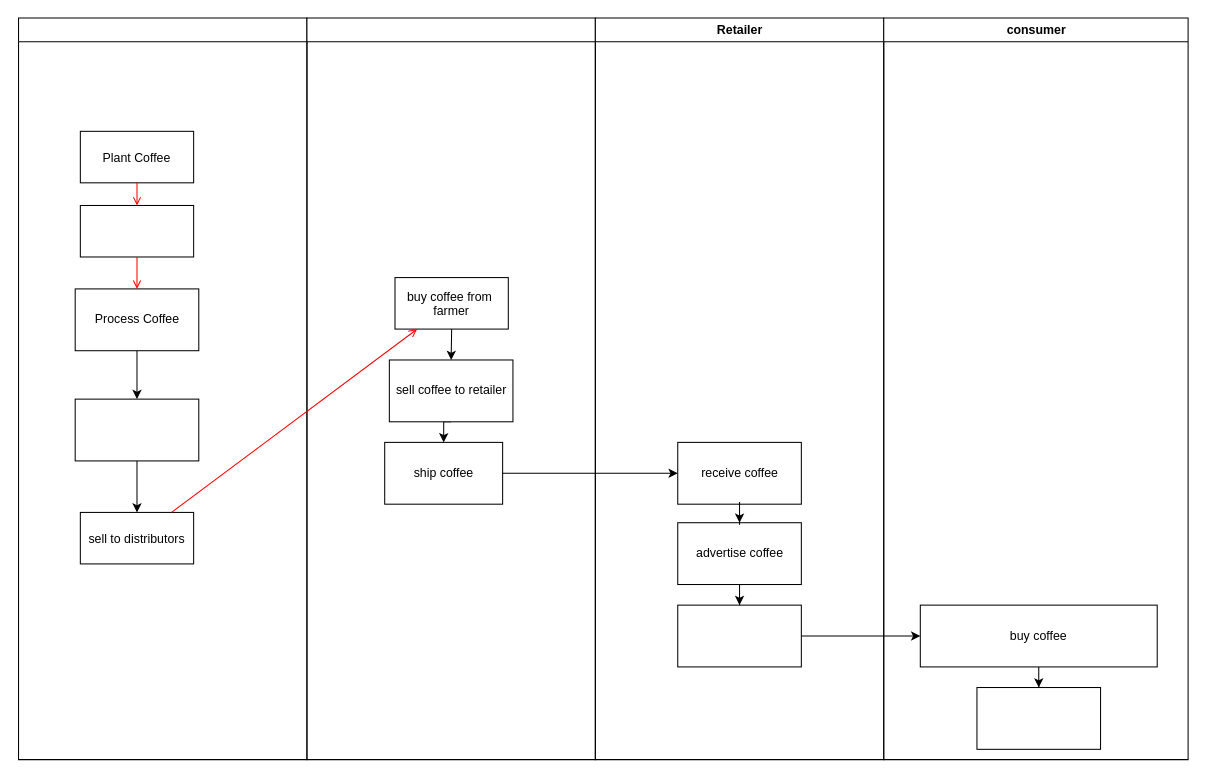
The diagram is 1206 pixels wide and 778 high, and some of its shapes have lost their labels. The shapes that lost their labels are listed below. From the top down, each one's box as (x1, y1, x2, y2) in pixels, then its label:
(79, 204, 194, 257): Harvest coffee
(18, 17, 307, 760): Farmer
(306, 17, 595, 760): Distributor
(74, 398, 199, 461): Pack Coffee
(677, 604, 801, 667): Sell coffee
(976, 686, 1101, 749): Consume coffee
